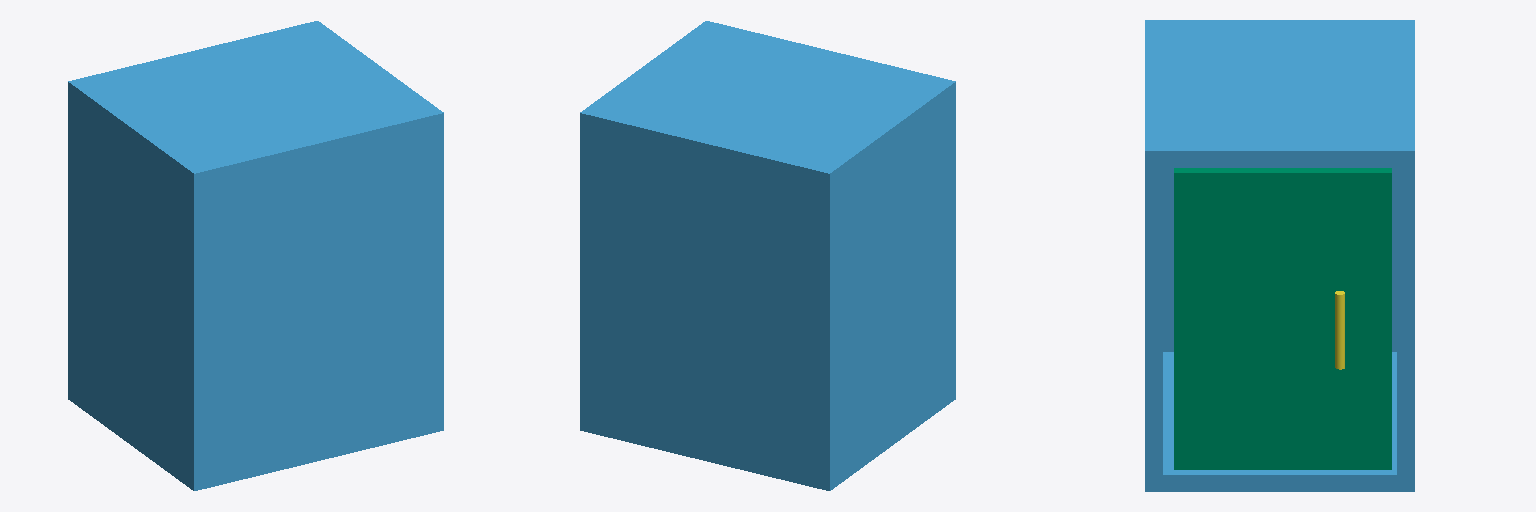
robot.urdf — my_cabinet:
<?xml version="1.0" ?>
<robot name="my_cabinet">
	<link name="world"/>
	<joint name="virtual_joint" type="fixed">
		<parent link="world"/>
		<child link="base_cabinet_link"/>
		<origin xyz="0.0 0.0 0.0" rpy="0.0 0.0 0.0"/>
	</joint>
	<link name="base_cabinet_link">
		<visual>
			<origin xyz="0.0 -0.0025 -0.17315225457644987" rpy="0.0 0.0 0.0"/>
			<geometry>
				<box size="0.3 0.2625021696844609 0.018"/>
			</geometry>
		</visual>
		<collision name="base_cabinet_link_collision_0">
			<origin xyz="0.0 -0.0025 -0.17315225457644987" rpy="0.0 0.0 0.0"/>
			<geometry>
				<box size="0.3 0.2625021696844609 0.018"/>
			</geometry>
		</collision>
		<visual>
			<origin xyz="0.0 0.11975108484223045 0.0" rpy="0.0 0.0 0.0"/>
			<geometry>
				<box size="0.3 0.018 0.36430450915289975"/>
			</geometry>
		</visual>
		<collision name="base_cabinet_link_collision_1">
			<origin xyz="0.0 0.11975108484223045 0.0" rpy="0.0 0.0 0.0"/>
			<geometry>
				<box size="0.3 0.018 0.36430450915289975"/>
			</geometry>
		</collision>
		<visual>
			<origin xyz="0.0 -0.12475108484223044 0.0" rpy="0.0 0.0 0.0"/>
			<geometry>
				<box size="0.3 0.018 0.36430450915289975"/>
			</geometry>
		</visual>
		<collision name="base_cabinet_link_collision_2">
			<origin xyz="0.0 -0.12475108484223044 0.0" rpy="0.0 0.0 0.0"/>
			<geometry>
				<box size="0.3 0.018 0.36430450915289975"/>
			</geometry>
		</collision>
		<visual>
			<origin xyz="0.0 -0.0025 0.17315225457644987" rpy="0.0 0.0 0.0"/>
			<geometry>
				<box size="0.3 0.2625021696844609 0.018"/>
			</geometry>
		</visual>
		<collision name="base_cabinet_link_collision_3">
			<origin xyz="0.0 -0.0025 0.17315225457644987" rpy="0.0 0.0 0.0"/>
			<geometry>
				<box size="0.3 0.2625021696844609 0.018"/>
			</geometry>
		</collision>
		<visual>
			<origin xyz="-0.141 -0.0025 0.0" rpy="0.0 0.0 0.0"/>
			<geometry>
				<box size="0.018 0.2625021696844609 0.36430450915289975"/>
			</geometry>
		</visual>
		<collision name="base_cabinet_link_collision_4">
			<origin xyz="-0.141 -0.0025 0.0" rpy="0.0 0.0 0.0"/>
			<geometry>
				<box size="0.018 0.2625021696844609 0.36430450915289975"/>
			</geometry>
		</collision>
		<inertial>
			<mass value="0.200000"/>
			<inertia ixx="0.003360" ixy="0.0" ixz="0.0" iyy="0.003712" iyz="0.0" izz="0.002648"/>
		</inertial>
	</link>
	<link name="door_link">
		<visual>
			<origin xyz="0.0 -0.10575108484223045 0.0"/>
			<geometry>
				<box size="0.018 0.2115021696844609 0.3183045091528997"/>
			</geometry>
		</visual>
		<collision name="door_link_collision">
			<origin xyz="0.0 -0.10575108484223045 0.0"/>
			<geometry>
				<box size="0.018 0.2115021696844609 0.3183045091528997"/>
			</geometry>
		</collision>
		<inertial>
			<mass value="0.200000"/>
			<inertia ixx="0.002434" ixy="0.0" ixz="0.0" iyy="0.001694" iyz="0.0" izz="0.000751"/>
		</inertial>
	</link>
	<joint name="door_joint" type="revolute">
		<origin xyz="0.141 -0.10575108484223045 0.0" rpy="0.000000 -0.000000 3.141593"/>
		<axis xyz="0 0 1"/>
		<parent link="base_cabinet_link"/>
		<child link="door_link"/>
		<limit effort="50" lower="-1.658062789394613" upper="0" velocity="10"/>
		<dynamics friction="3.5" damping="3.5"/>
	</joint>
	<link name="handle_link">
		<visual>
			<origin xyz="0.0 0.0 0.0" rpy="0.0 0.0 0.0"/>
			<geometry>
				<cylinder length="0.08" radius="0.005"/>
			</geometry>
		</visual>
		<collision name="handle_link_collision_0">
			<origin xyz="0.0 0.0 0.0" rpy="0.0 0.0 0.0"/>
			<geometry>
				<cylinder length="0.08" radius="0.005"/>
			</geometry>
		</collision>
		<visual>
			<origin xyz="-0.01 0.0 0.02" rpy="0.0 1.5707963267948966 0.0"/>
			<geometry>
				<cylinder length="0.02" radius="0.003"/>
			</geometry>
		</visual>
		<collision name="handle_link_collision_1">
			<origin xyz="-0.01 0.0 0.02" rpy="0.0 1.5707963267948966 0.0"/>
			<geometry>
				<cylinder length="0.01" radius="0.003"/>
			</geometry>
		</collision>
		<visual>
			<origin xyz="-0.01 0.0 -0.02" rpy="0.0 1.5707963267948966 0.0"/>
			<geometry>
				<cylinder length="0.02" radius="0.003"/>
			</geometry>
		</visual>
		<collision name="handle_link_collision_2">
			<origin xyz="-0.01 0.0 -0.02" rpy="0.0 1.5707963267948966 0.0"/>
			<geometry>
				<cylinder length="0.02" radius="0.003"/>
			</geometry>
		</collision>
		<inertial>
			<mass value="0.050000"/>
			<inertia ixx="0.000027" ixy="0.0" ixz="0.0" iyy="0.000029" iyz="0.0" izz="0.000003"/>
		</inertial>
	</link>
	<joint name="handle_joint" type="fixed">
		<origin xyz="-0.028999999999999998 -0.1615021696844609 0.0" rpy="0.000000 -0.000000 3.141593"/>
		<parent link="door_link"/>
		<child link="handle_link"/>
	</joint>
	<gazebo reference="base_cabinet_link">
		<sensor name="main_sensor" type="contact">
			<selfCollide>true</selfCollide>
			<alwaysOn>true</alwaysOn>
			<updateRate>5.0</updateRate>
			<material>Gazebo/Red</material>
			<contact>
				<collision>base_cabinet_link_collision_0_collision</collision>
				<collision>base_cabinet_link_collision_1_collision</collision>
				<collision>base_cabinet_link_collision_2_collision</collision>
				<collision>base_cabinet_link_collision_3_collision</collision>
				<collision>base_cabinet_link_collision_4_collision</collision>
			</contact>
			<plugin name="gazebo_ros_bumper_controller" filename="libgazebo_ros_bumper.so">
				<bumperTopicName>/contact</bumperTopicName>
				<frameName>world</frameName>
			</plugin>
		</sensor>
	</gazebo>
	<gazebo reference="door_link">
		<sensor name="main_sensor" type="contact">
			<selfCollide>true</selfCollide>
			<alwaysOn>true</alwaysOn>
			<updateRate>5.0</updateRate>
			<material>Gazebo/Red</material>
			<contact>
				<collision>door_link_collision_collision</collision>
			</contact>
			<plugin name="gazebo_ros_bumper_controller" filename="libgazebo_ros_bumper.so">
				<bumperTopicName>/contact_door</bumperTopicName>
				<frameName>contact_door</frameName>
			</plugin>
		</sensor>
	</gazebo>
	<gazebo reference="door_link">
		<mu>3.0</mu>
		<mu2>3.0</mu2>
		<kp>10000000</kp>
		<kd>100</kd>
	</gazebo>
</robot>

--- Facts derived from the render (not from the file) ---
The picture shows the robot from 3 angles, left to right: view 1: azimuth 30°, elevation 25°; view 2: azimuth 150°, elevation 25°; view 3: azimuth 270°, elevation 25°; orthographic projection.
Robot: my_cabinet — 4 links, 3 joints (1 revolute, 2 fixed); root link world; default pose: all joints at 0.
Visible links, largest first — view 1: base_cabinet_link; view 2: base_cabinet_link; view 3: door_link, base_cabinet_link, handle_link.
Link boxes in pixels (x1,y1,x2,y2): base_cabinet_link: (68,21,443,490); base_cabinet_link: (580,21,955,490); door_link: (1174,168,1391,469); base_cabinet_link: (1145,20,1414,491); handle_link: (1335,291,1344,369).
Size in the robot's own frame: 0.325 by 0.2625 by 0.3643 metres.
Geometry: primitives only (box / cylinder / sphere), no mesh files.
